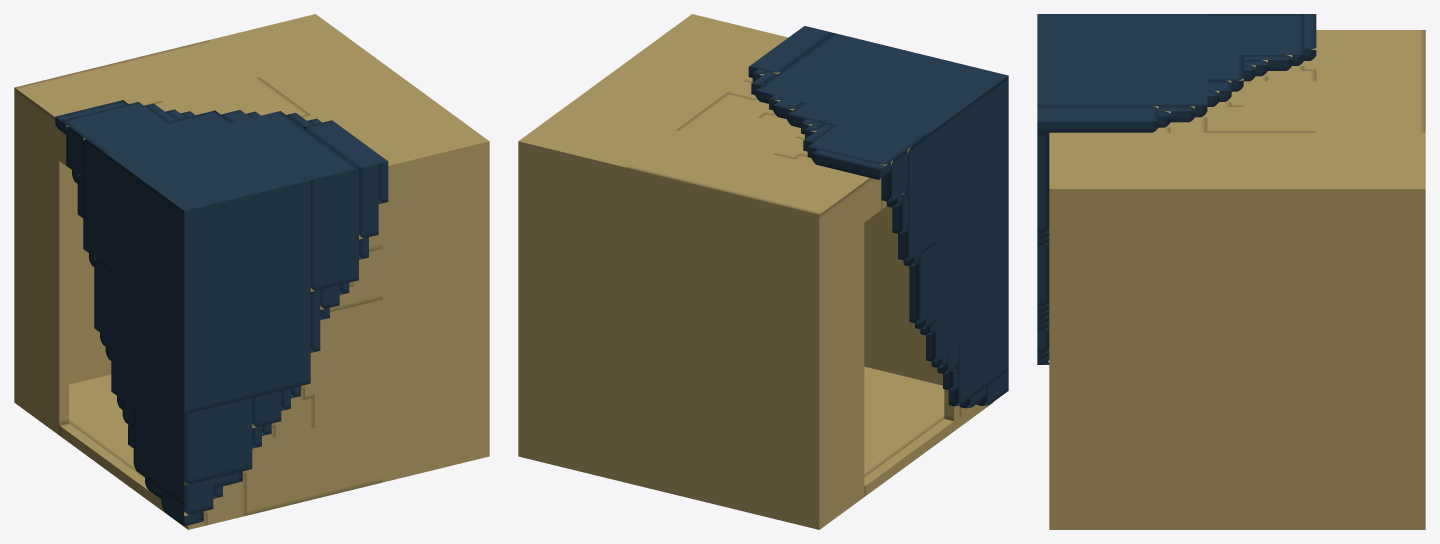
File: Karton.dae
3 renders of one model, left to right at view 1: azimuth 30°, elevation 25°; view 2: azimuth 150°, elevation 25°; view 3: azimuth 270°, elevation 25°, orthographic. The views are drawn at different scales.
Visible parts, largest first — view 1: Kartonowy_schron; view 2: Kartonowy_schron; view 3: Kartonowy_schron.
Part boxes in pixels (box(x1,y1,x2,y2)): Kartonowy_schron: box(14, 14, 489, 529); Kartonowy_schron: box(518, 14, 1008, 529); Kartonowy_schron: box(1037, 14, 1425, 529).
Size of the model in its own units: 32 by 32 by 32.
1 material, 1 textured.
